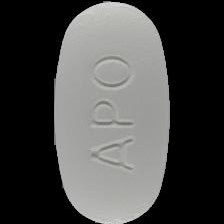60505-2552: (0, 0, 224, 224)
